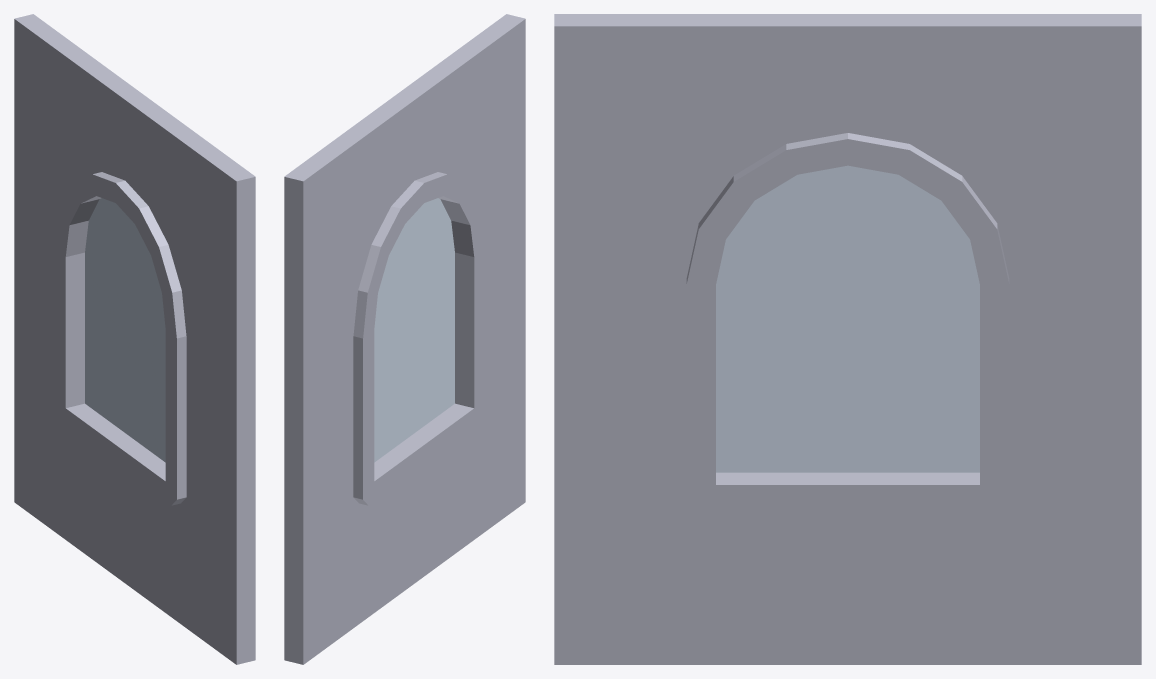
Rendered from wall-window-round.obj.
3 renders of one model, left to right at view 1: azimuth 30°, elevation 25°; view 2: azimuth 150°, elevation 25°; view 3: azimuth 270°, elevation 25°, orthographic. The views are drawn at different scales.
Bounding box in the file's own units: 0.2 × 2.4 × 2.
